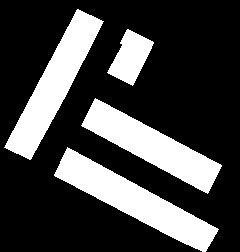parkingspot: (54, 147, 218, 251), (4, 9, 103, 159), (81, 98, 221, 193), (107, 29, 153, 85)
